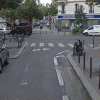crosswalk: (29, 42, 92, 47)
